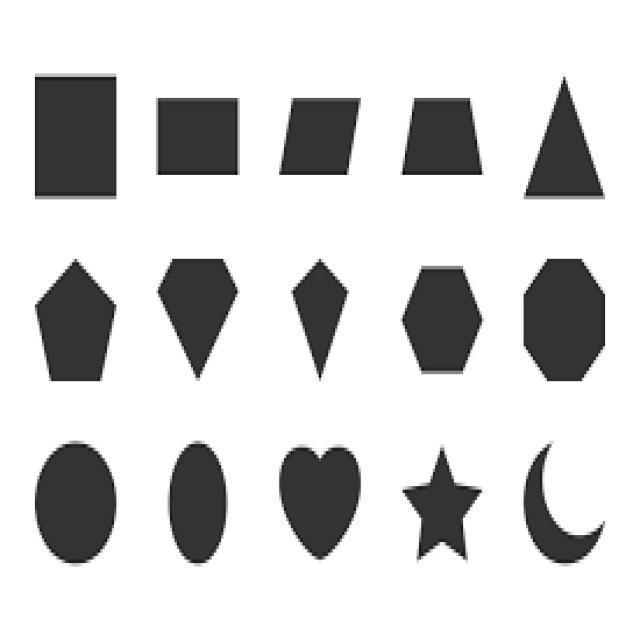circle: (10, 433, 150, 577), (160, 428, 242, 579)
square: (10, 53, 142, 222), (146, 78, 256, 204)
triangle: (498, 63, 621, 216)
